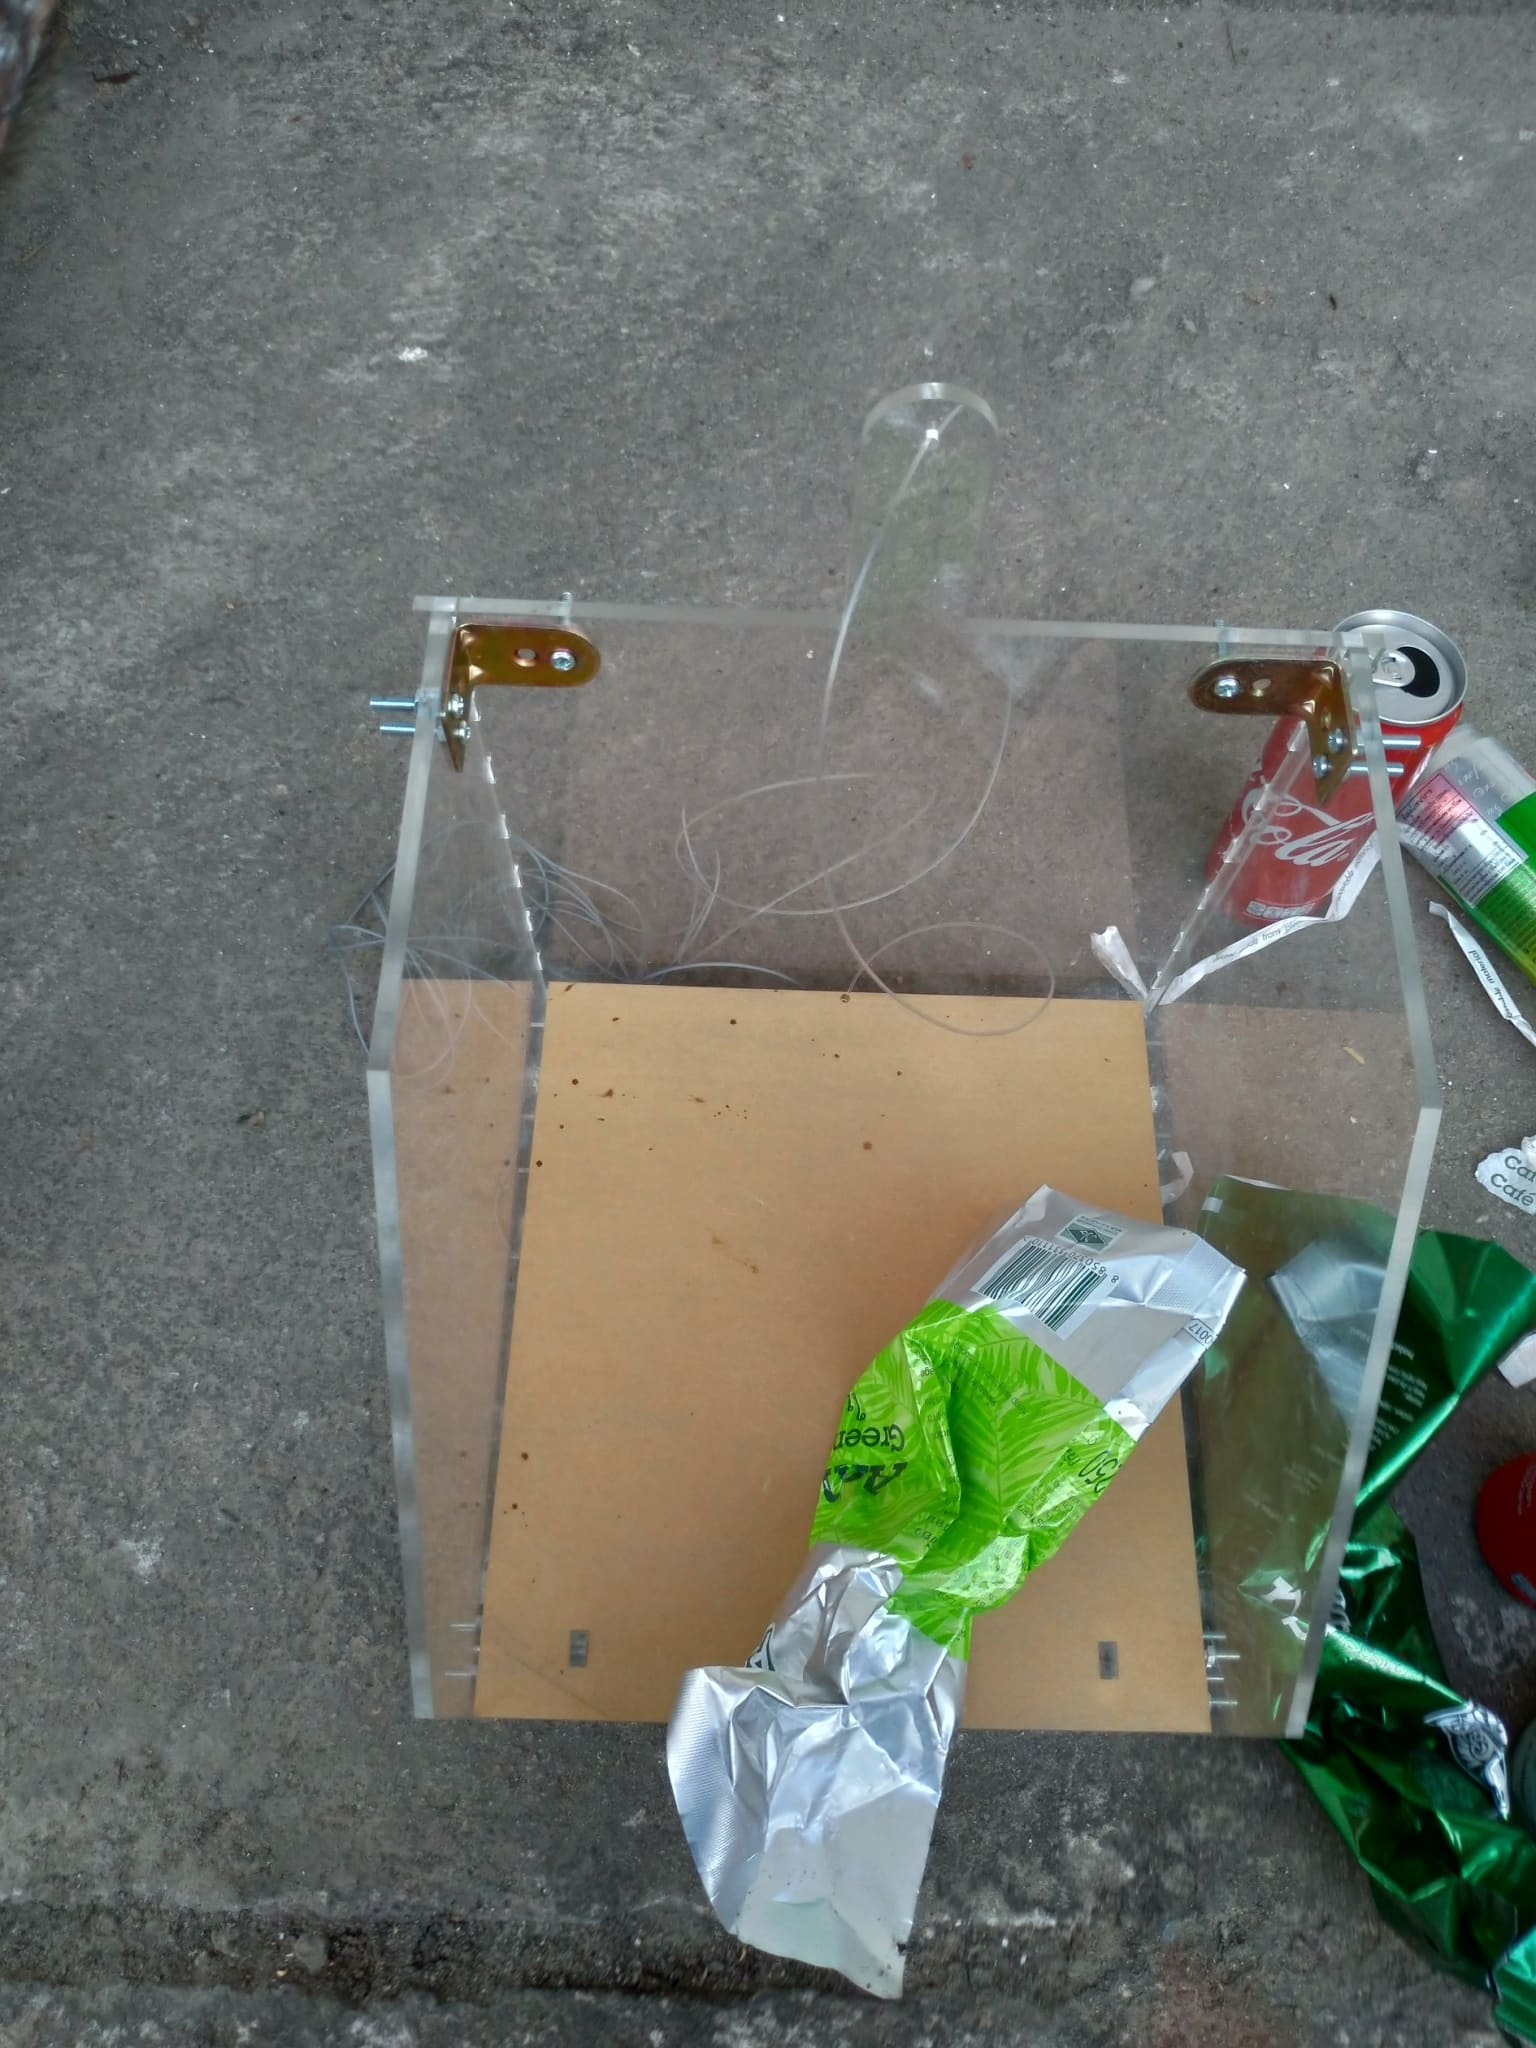AlCan: (1221, 614, 1467, 930), (1404, 727, 1536, 956)
Others: (647, 1177, 1250, 1998), (1183, 1172, 1536, 1995)
